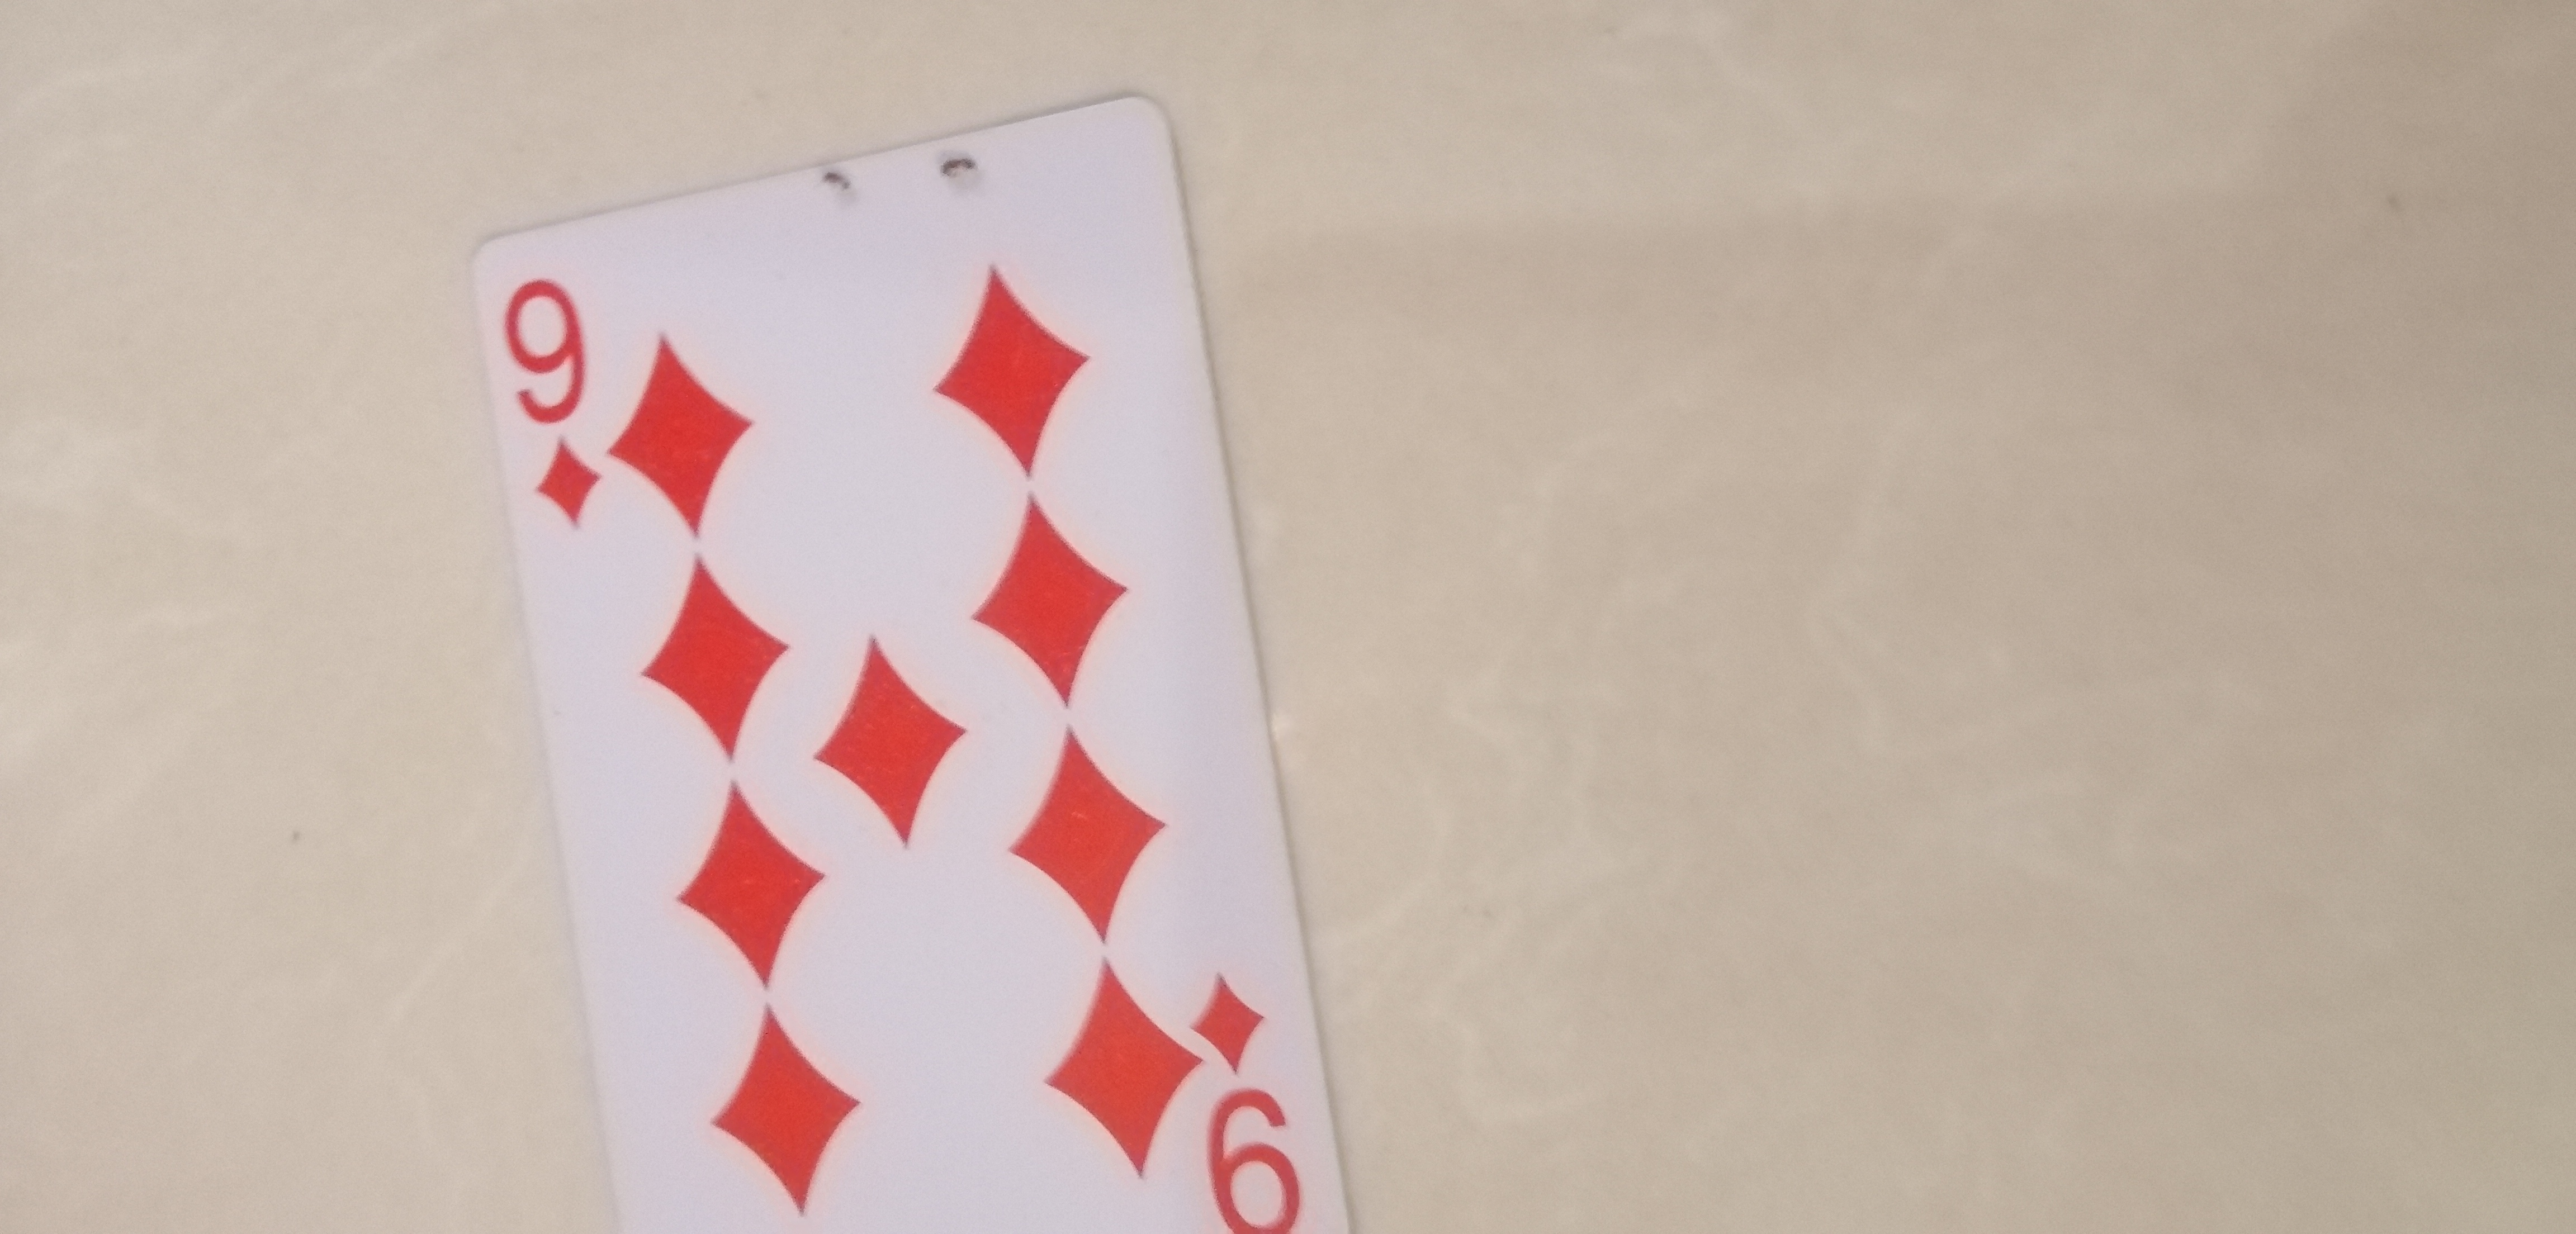nine: (457, 90, 1367, 1234)
